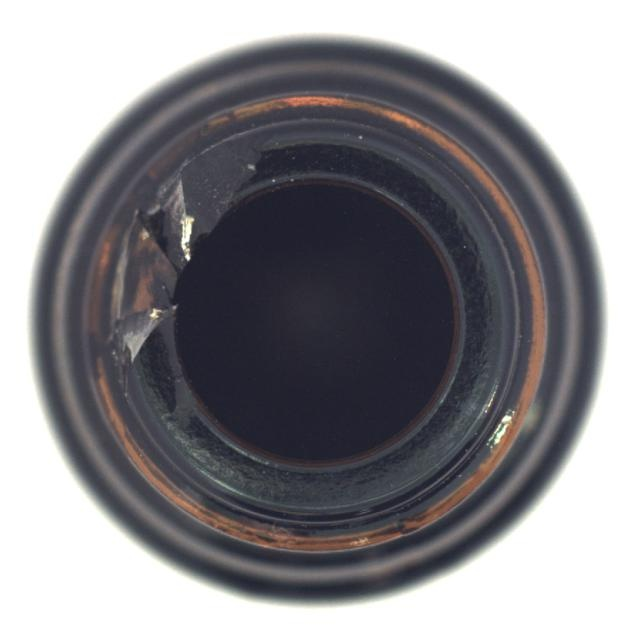bad-broken_large: (27, 32, 609, 607)
